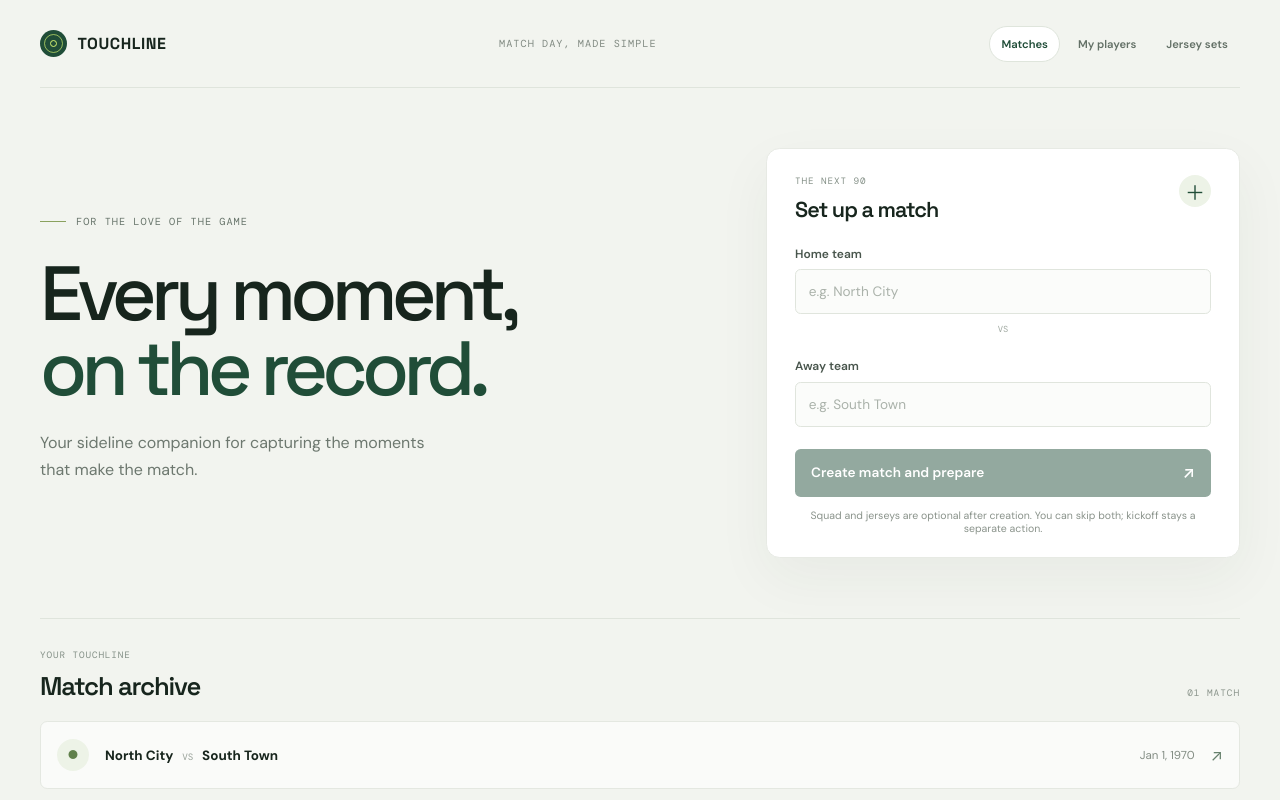
Test: App › navigates from a directory identity to its statistics and from a breakdown to the match
Click the button "My players".
click(1107, 44)  # box [1066,26,1148,62]
(page scrolled)
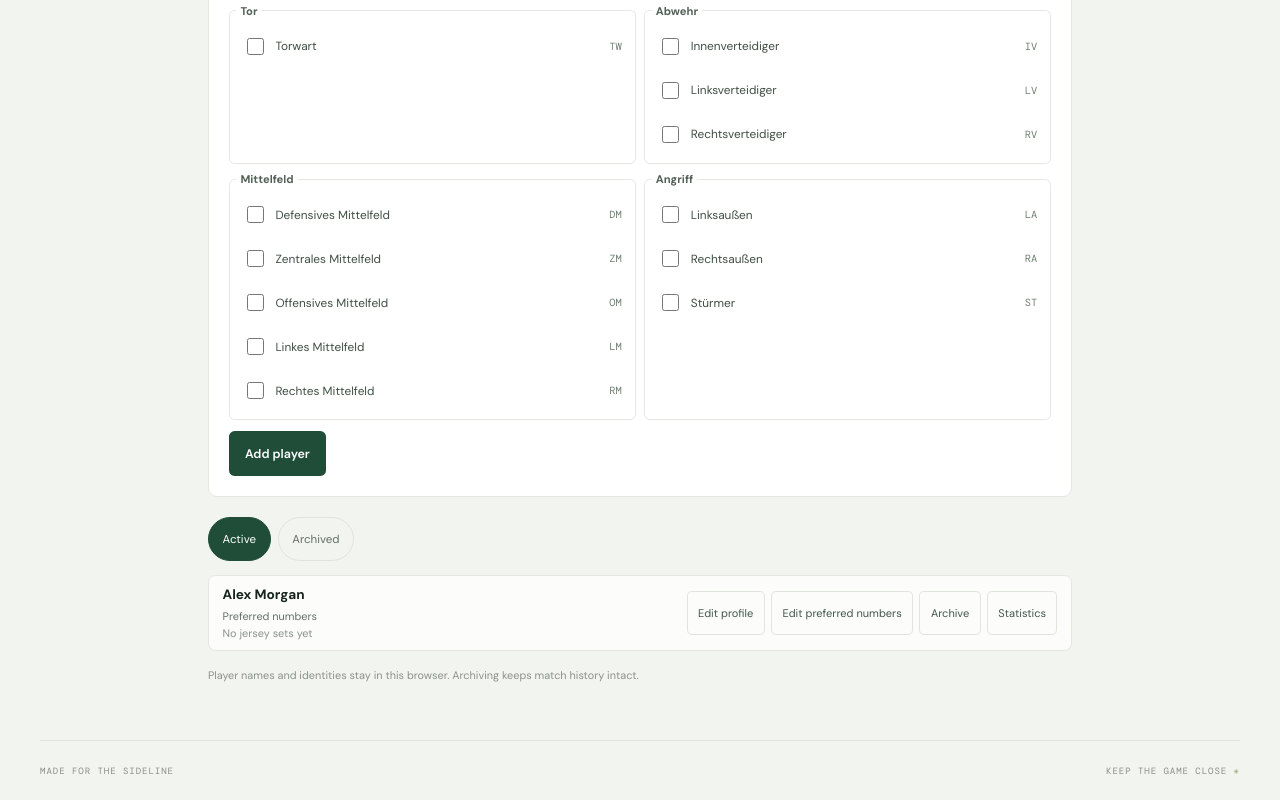
Click the button with aria-label "View statistics for Alex Morgan".
click(1022, 613)  # box [987,591,1057,635]
(page scrolled)
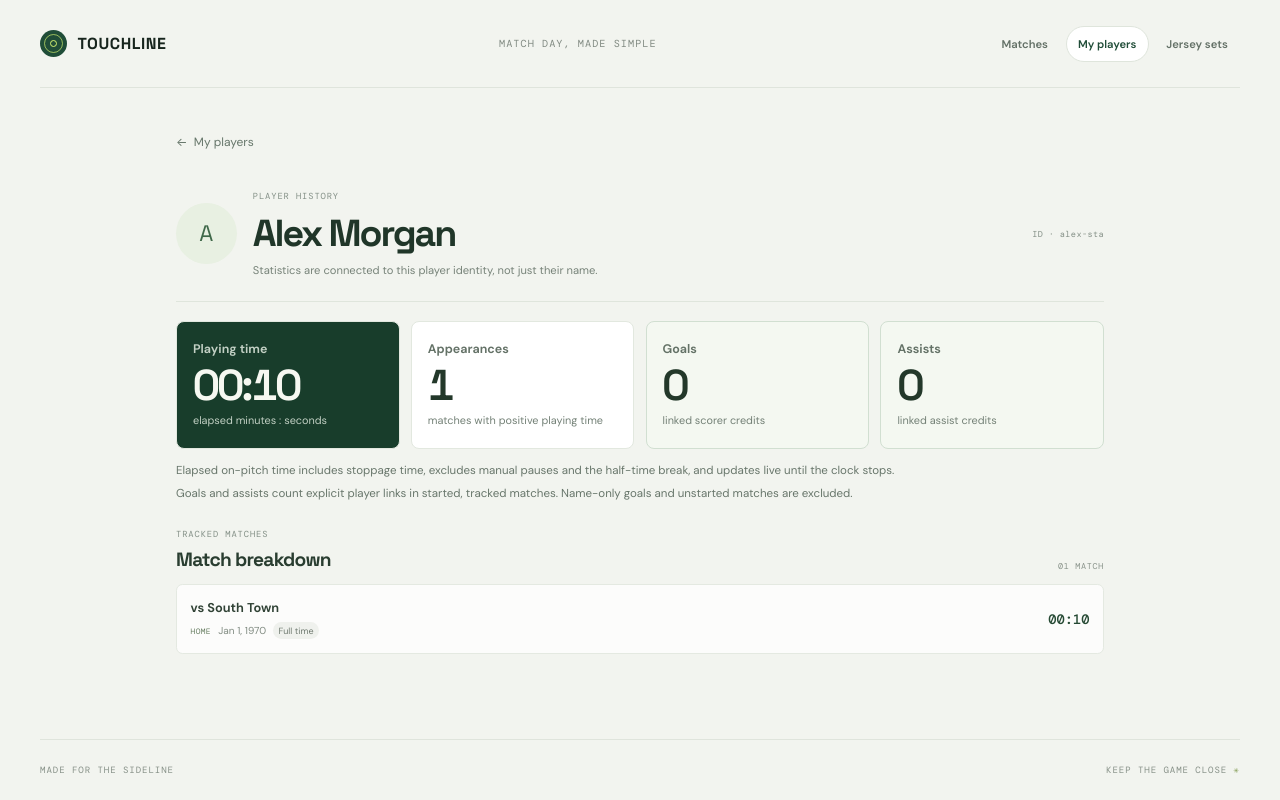
Check: the heading "Alex Morgan" is shown, box [253,209,455,257]
Check: the text with test id "total-playing-time" reads "00:10", box [193,357,300,413]
Check: the list item "vs South Town HOME Jan 1, 1970 Full time 00:10" is shown, box [176,584,1104,654]
Click the button with class "breakdown-match-link".
click(255, 619)  # box [191,599,319,639]
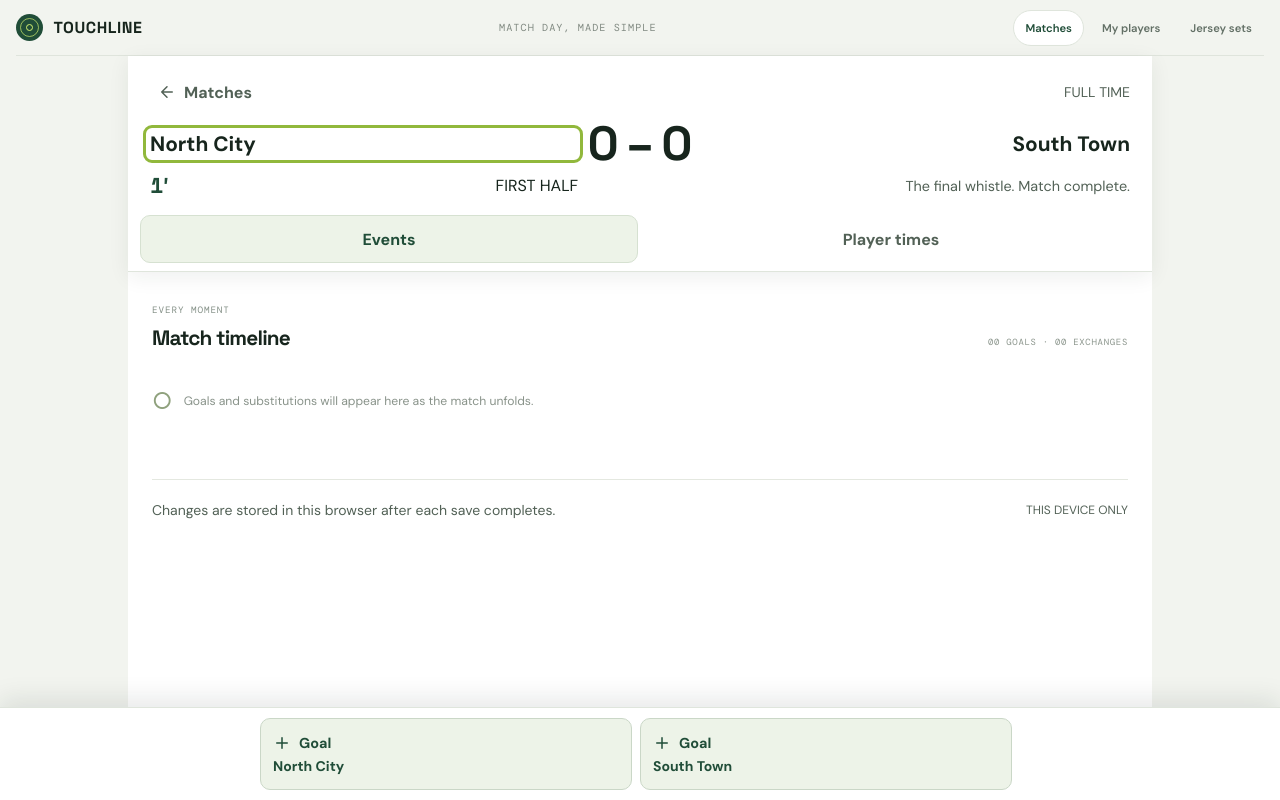
Check: the 1st text "North City" is shown, box [150,130,256,157]
Click the tab "Player times".
click(891, 239)  # box [642,215,1140,263]
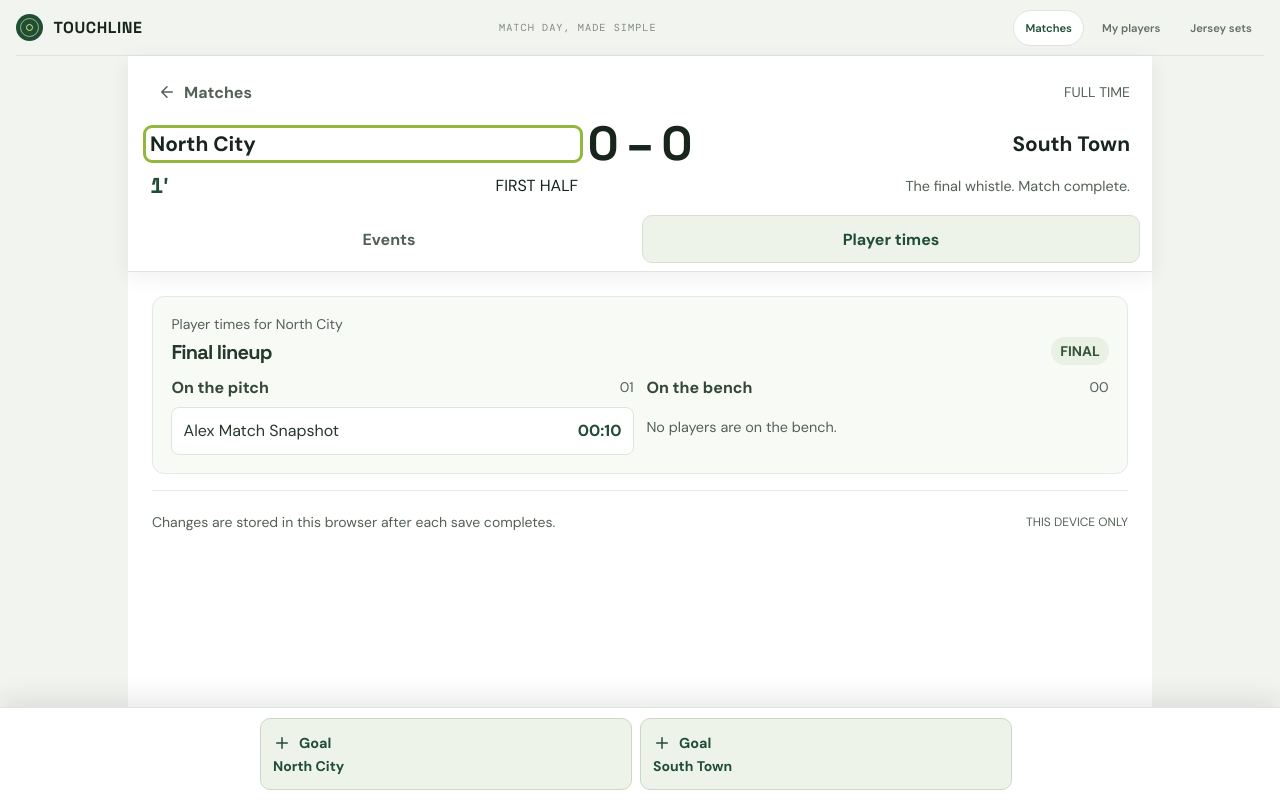
Check: the panel shows "Alex Match Snapshot", box [184,420,339,441]
